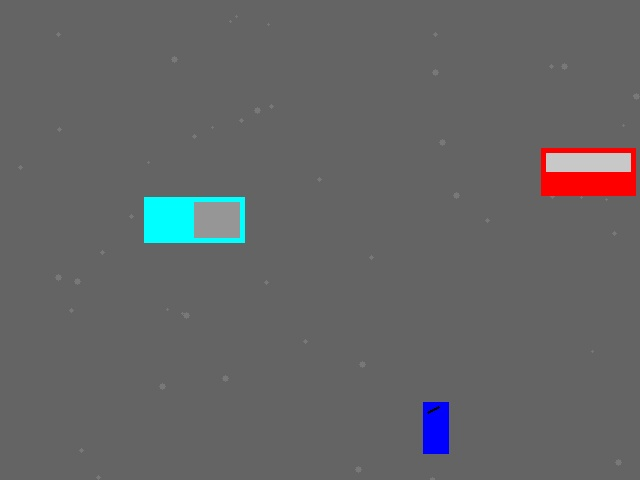car: (541, 148, 635, 195)
motorcycle: (423, 402, 448, 453)
truck: (144, 197, 244, 242)
